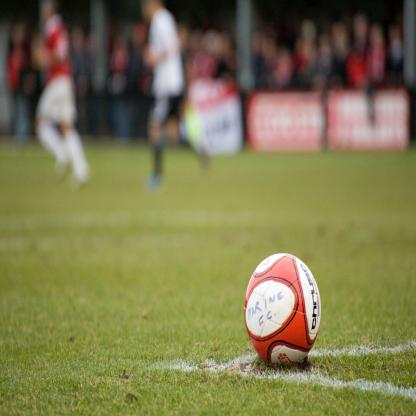Ball: (242, 253, 321, 365)
